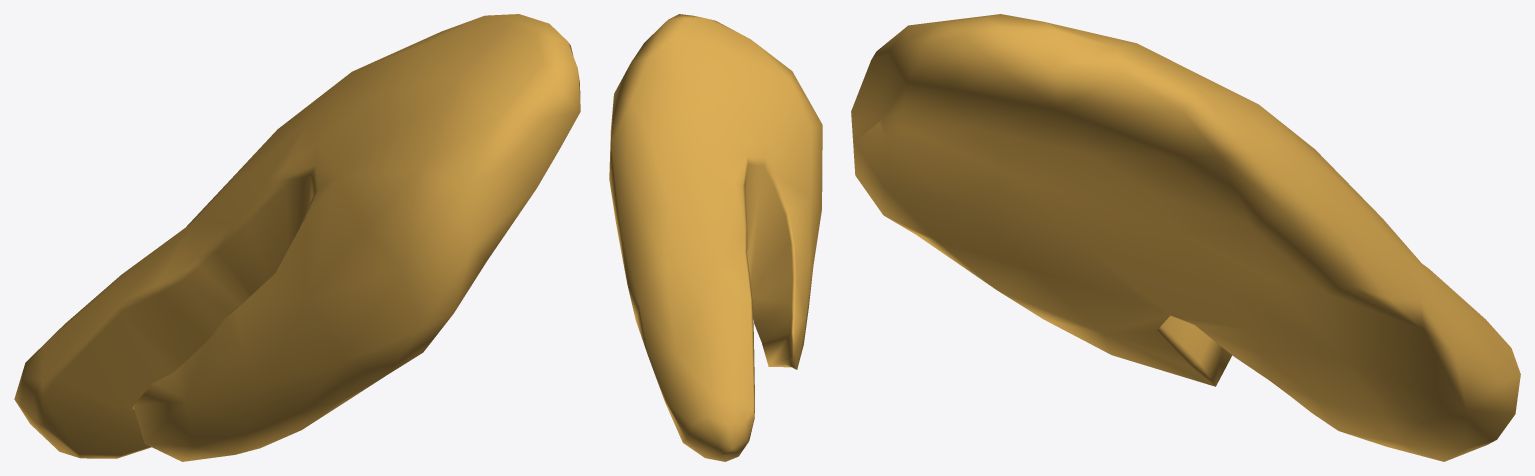
The picture shows the model from 3 angles, left to right: view 1: azimuth 30°, elevation 25°; view 2: azimuth 150°, elevation 25°; view 3: azimuth 270°, elevation 25°; orthographic projection. The views are drawn at different scales.
Visible parts, largest first — view 1: 左侧下颌下腺; view 2: 左侧下颌下腺; view 3: 左侧下颌下腺.
Boxes of the visible parts, <box> form: 左侧下颌下腺: <box>14,14,580,461</box>; 左侧下颌下腺: <box>609,14,822,461</box>; 左侧下颌下腺: <box>851,14,1520,461</box>.
Bounding box in the file's own units: 0.0231 × 0.0319 × 0.0333.
